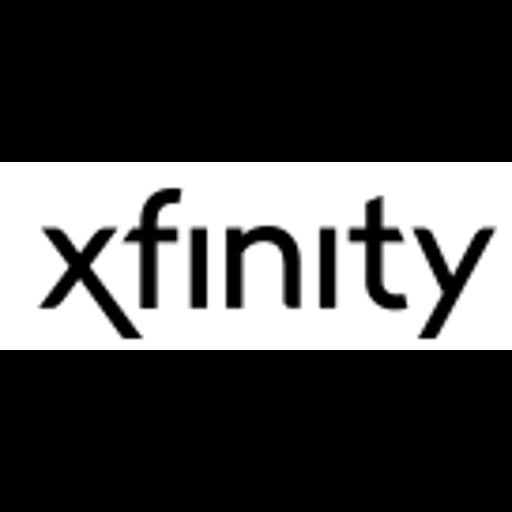Comcast Corporation: (0, 162, 512, 350)
